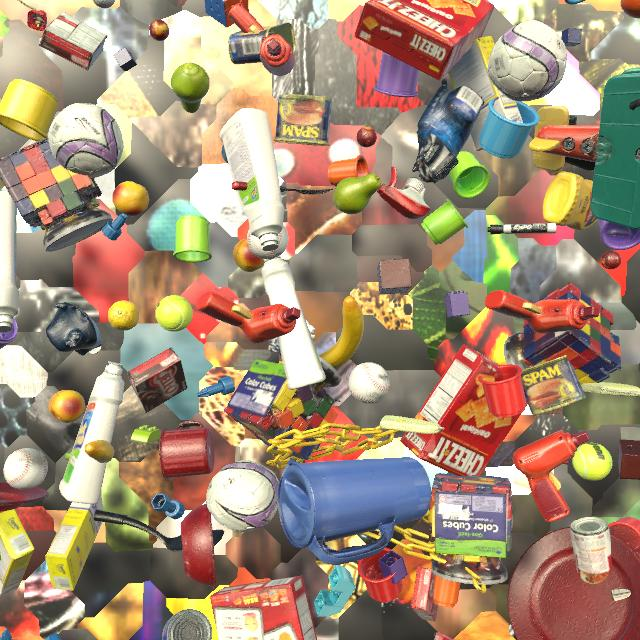ycb_003_cracker_box: (400, 344, 528, 476), (354, 0, 495, 81), (210, 576, 317, 640)
ycb_004_sugar_box: (448, 36, 523, 151), (45, 494, 104, 591), (0, 509, 34, 597)
ycb_005_tomato_soup_can: (570, 517, 612, 584)
ycb_006_mustard_bottle: (543, 171, 597, 230)
ycb_007_tuna_fish_can: (162, 609, 212, 640)
ycb_008_pudding_box: (127, 347, 188, 413), (39, 12, 108, 70), (611, 589, 631, 601)
ycb_009_gelatin_box: (411, 566, 438, 622), (434, 632, 454, 640)
ycb_010_potted_meat_can: (521, 355, 586, 416), (274, 94, 332, 146), (228, 22, 296, 64)
ycb_011_banana: (319, 296, 364, 368), (65, 440, 114, 463)
ycb_014_lemon: (108, 301, 139, 331)
ycb_015_peach: (112, 181, 149, 216), (49, 390, 85, 423), (233, 239, 265, 272)
ycb_016_pear: (333, 174, 382, 214), (171, 63, 210, 113)
ycb_017_orange: (620, 0, 640, 18)
